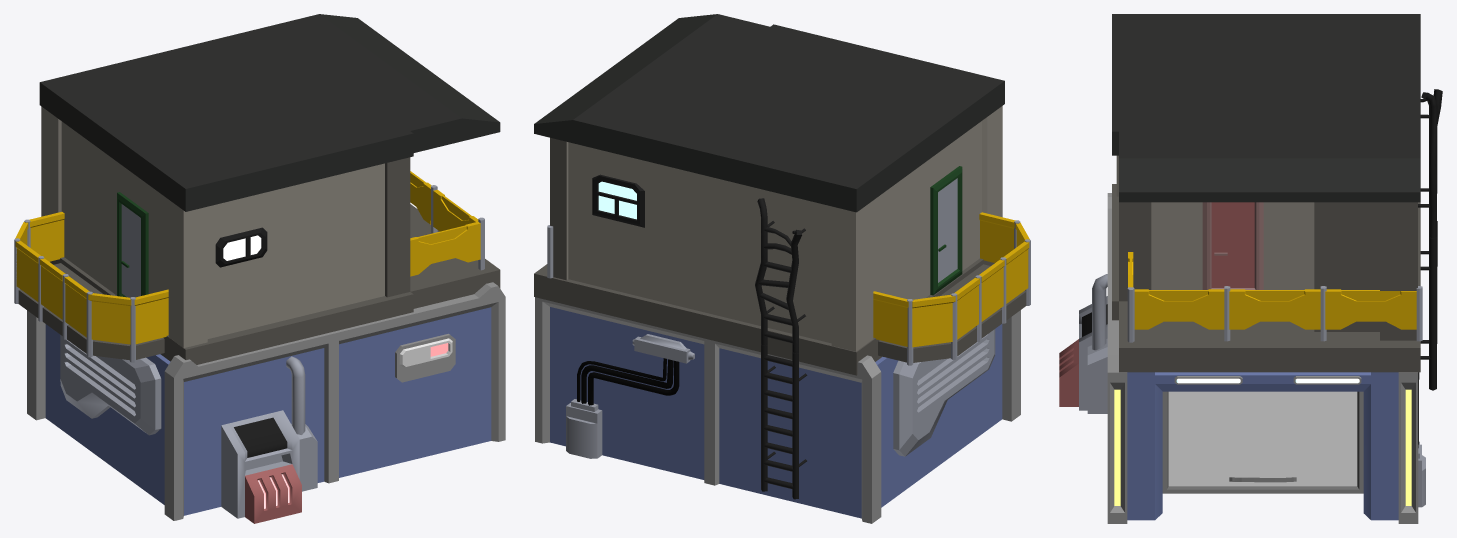
File: Garage6.fbx
The picture shows the model from 3 angles, left to right: view 1: azimuth 30°, elevation 25°; view 2: azimuth 150°, elevation 25°; view 3: azimuth 270°, elevation 25°; orthographic projection. The views are drawn at different scales.
Parts seen in each view (by area): view 1: pristroika1, garage 1, pristroikaBalcon1, SciFiExProp1, Vent2, pristroikaDoor1.001, pristroikaZabor1, Vent1, pristroikaWindow1, pristroikaZabor1.001, pristroikaZabor1.002; view 2: pristroika1, garage 1, pristroikaBalcon1, Vent2, Provodka1, pristroikaDoor1.001, Lestnica2, Lestnica1, pristroikaWindow2; view 3: pristroika1, garage 1, garage1door, pristroikaDoor1, SciFiExProp1, pristroikaZabor1.002, pristroikaZabor1.003, pristroikaZabor1.001, Lestnica1, Lestnica2, pristroikaZabor1, ShortLamp1 (+2 smaller).
Part boxes in pixels (x1,y1,x2,y2): pristroika1: [39, 14, 500, 364]; garage 1: [27, 261, 505, 520]; pristroikaBalcon1: [14, 212, 168, 362]; SciFiExProp1: [221, 356, 317, 523]; Vent2: [60, 335, 161, 435]; pristroikaDoor1.001: [117, 192, 148, 297]; pristroikaZabor1: [410, 217, 484, 276]; Vent1: [395, 333, 455, 382]; pristroikaWindow1: [215, 227, 267, 267]; pristroikaZabor1.001: [431, 185, 478, 233]; pristroikaZabor1.002: [410, 171, 431, 224]; pristroika1: [534, 14, 1004, 375]; garage 1: [535, 297, 1020, 523]; pristroikaBalcon1: [873, 212, 1030, 365]; Vent2: [893, 329, 995, 456]; Provodka1: [566, 334, 694, 458]; pristroikaDoor1.001: [930, 166, 962, 295]; Lestnica2: [761, 344, 807, 499]; Lestnica1: [755, 198, 805, 353]; pristroikaWindow2: [592, 174, 644, 227]; pristroika1: [1112, 14, 1420, 372]; garage 1: [1107, 193, 1418, 523]; garage1door: [1162, 391, 1363, 493]; pristroikaDoor1: [1202, 202, 1263, 289]; SciFiExProp1: [1059, 274, 1107, 413]; pristroikaZabor1.002: [1229, 286, 1326, 341]; pristroikaZabor1.003: [1325, 286, 1422, 341]; pristroikaZabor1.001: [1134, 286, 1230, 341]; Lestnica1: [1418, 89, 1442, 238]; Lestnica2: [1420, 221, 1437, 390]; pristroikaZabor1: [1127, 252, 1134, 342]; ShortLamp1: [1174, 376, 1242, 384].
Size of the model in its own units: 692 by 570 by 573.
